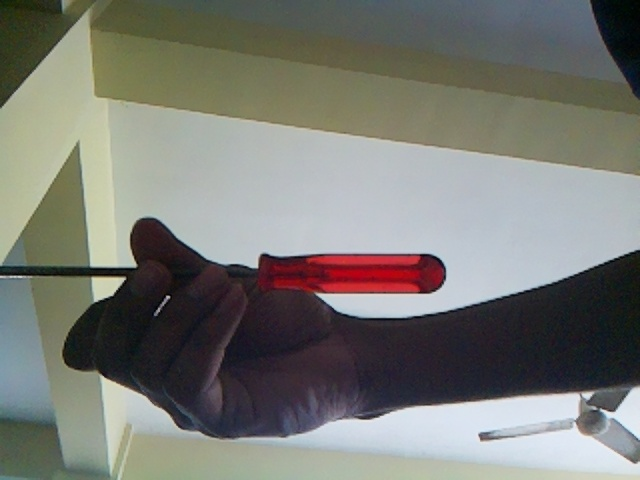redskrew: (3, 242, 444, 300)
